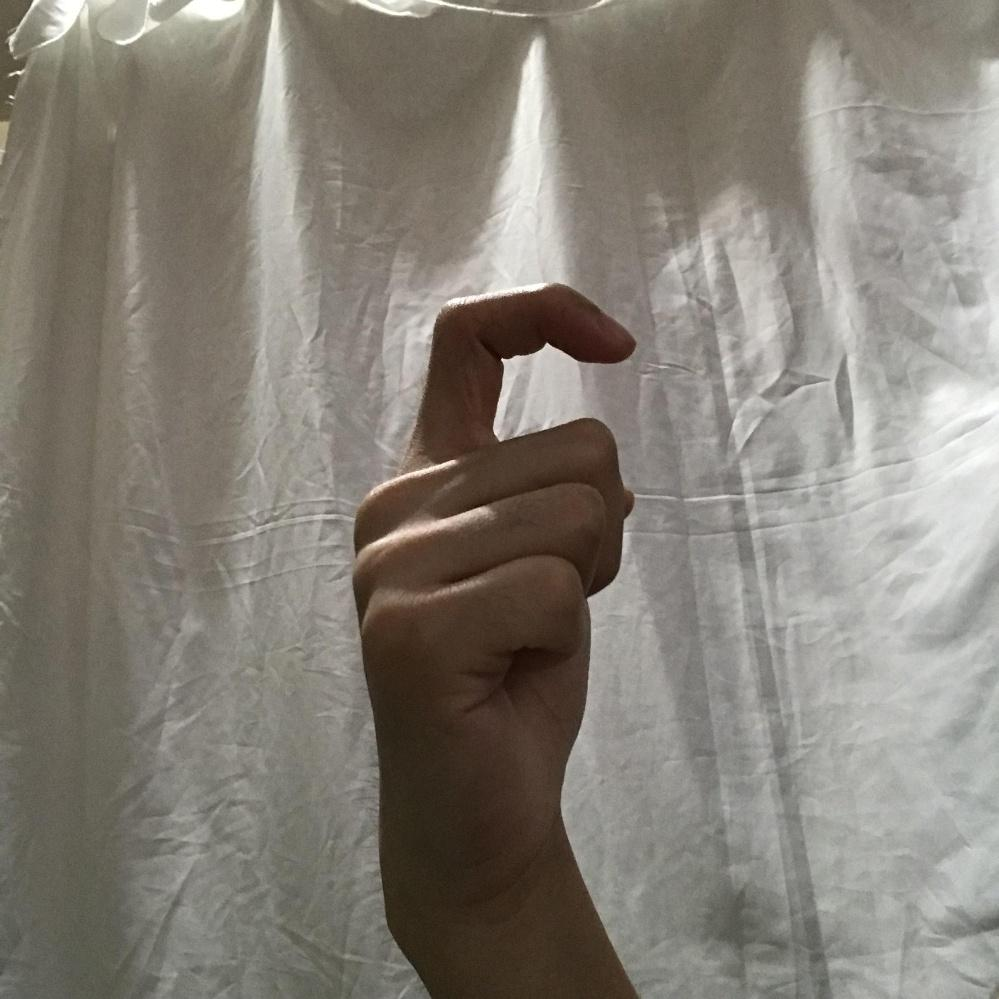x: (353, 280, 643, 909)
